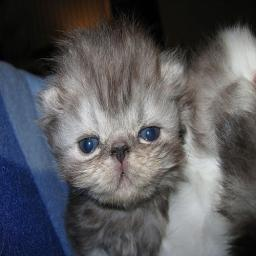catnose: (108, 140, 132, 164)
